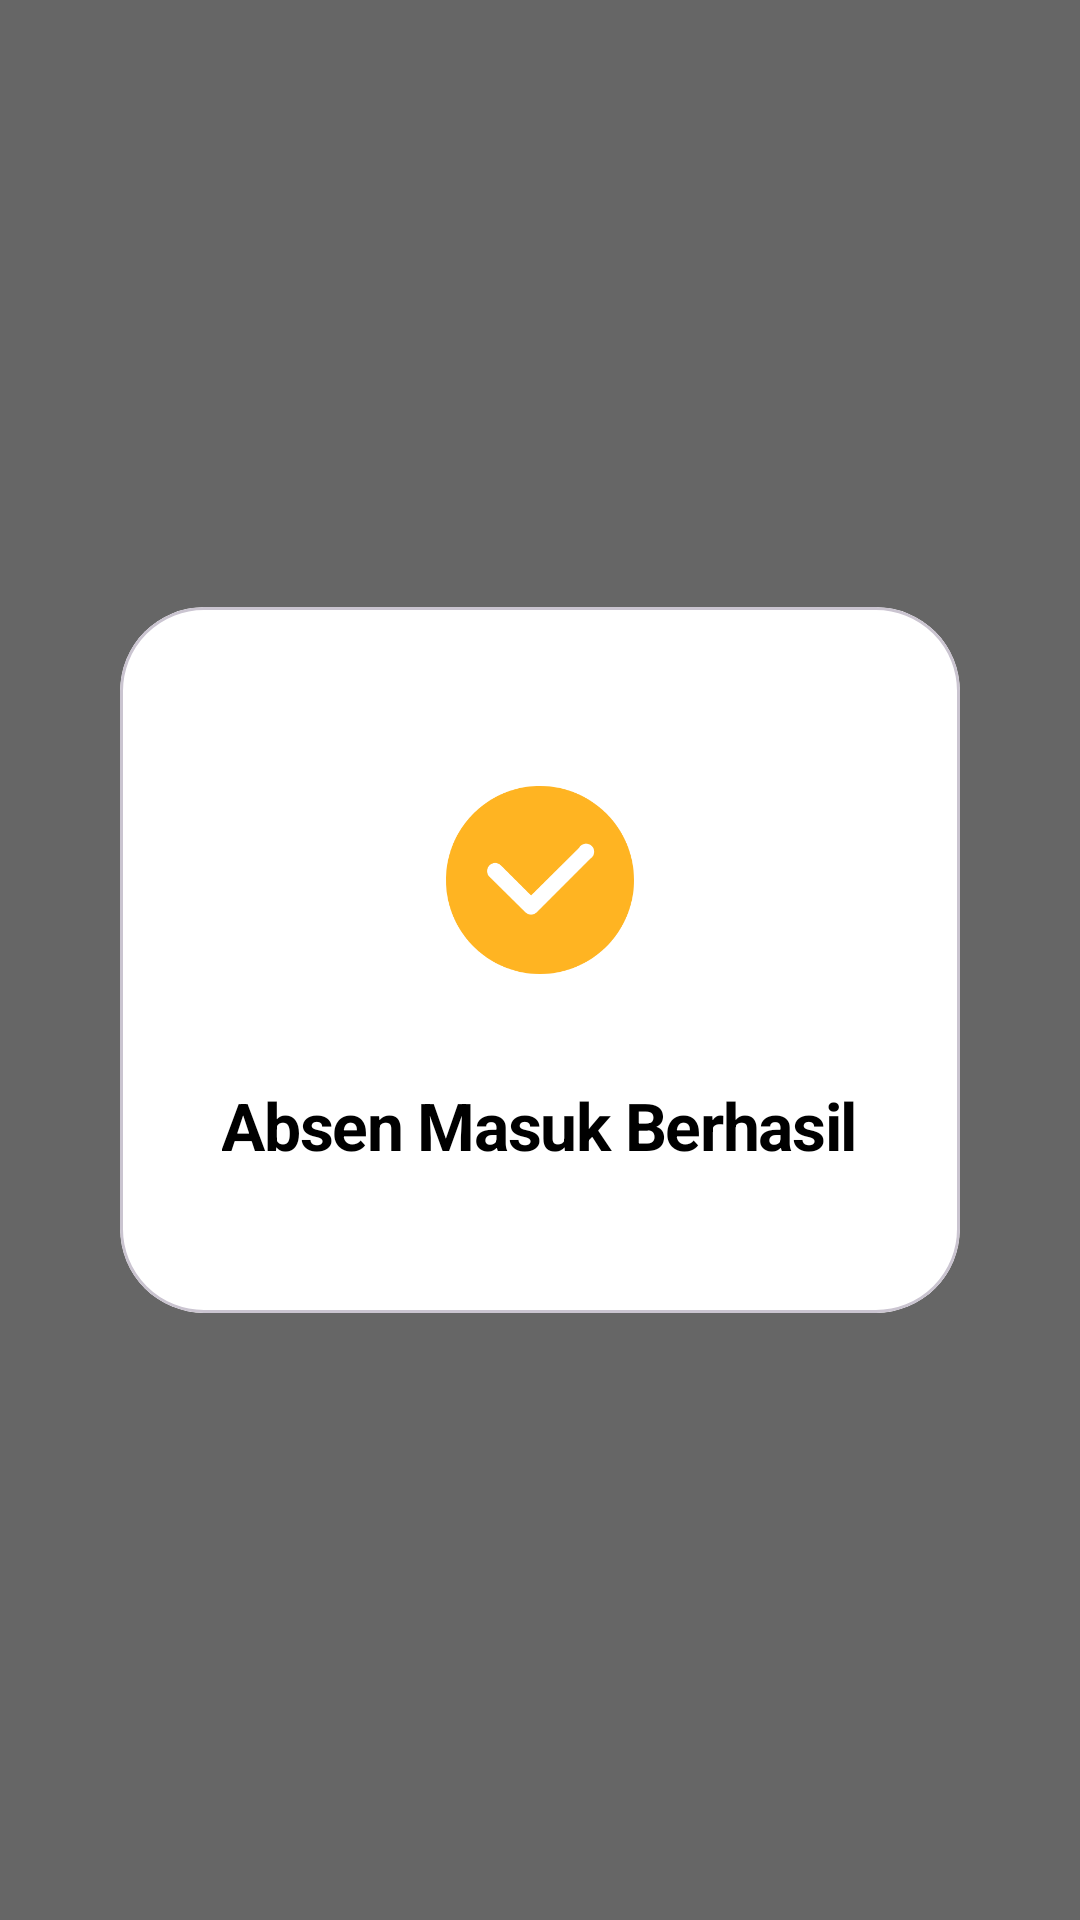

Where to tap for icons on this 1080*1920 app screen, as [x,y]:
success: [540,880]
